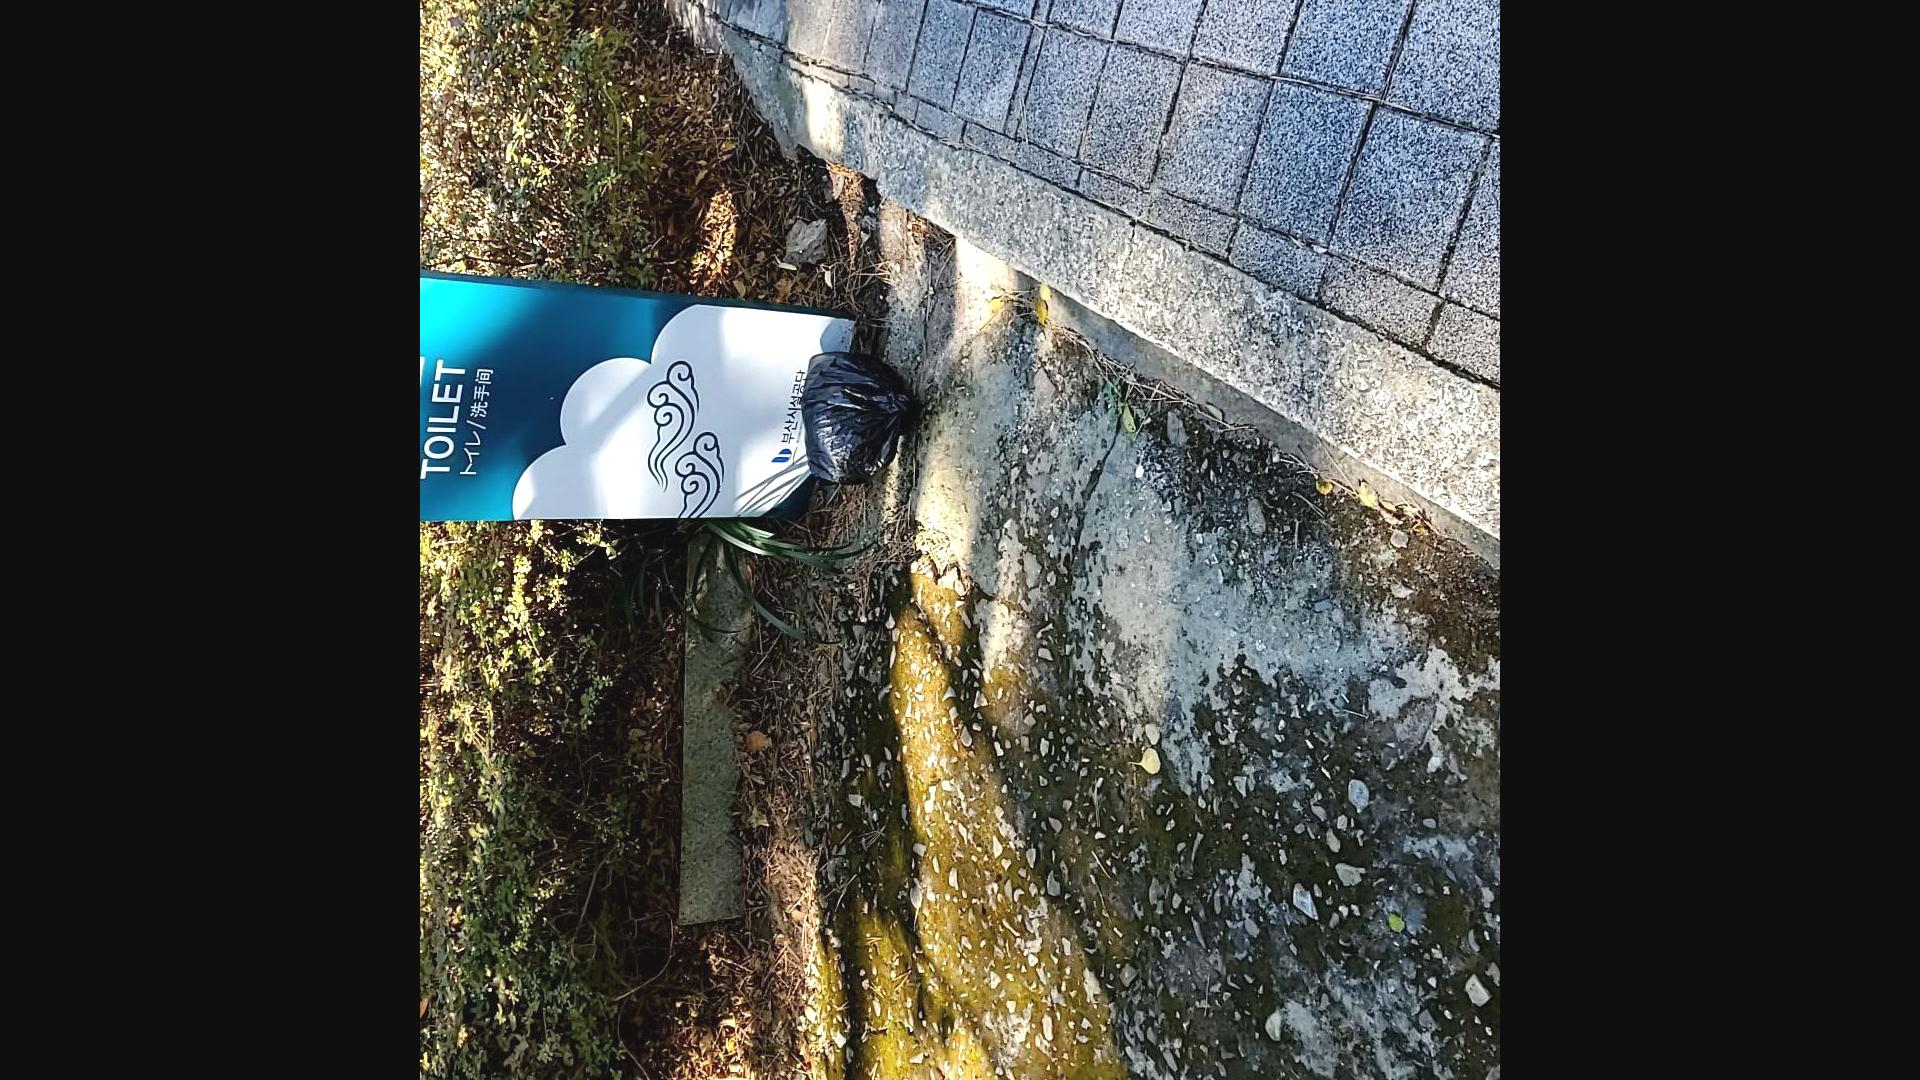black_bag: (798, 339, 930, 491)
